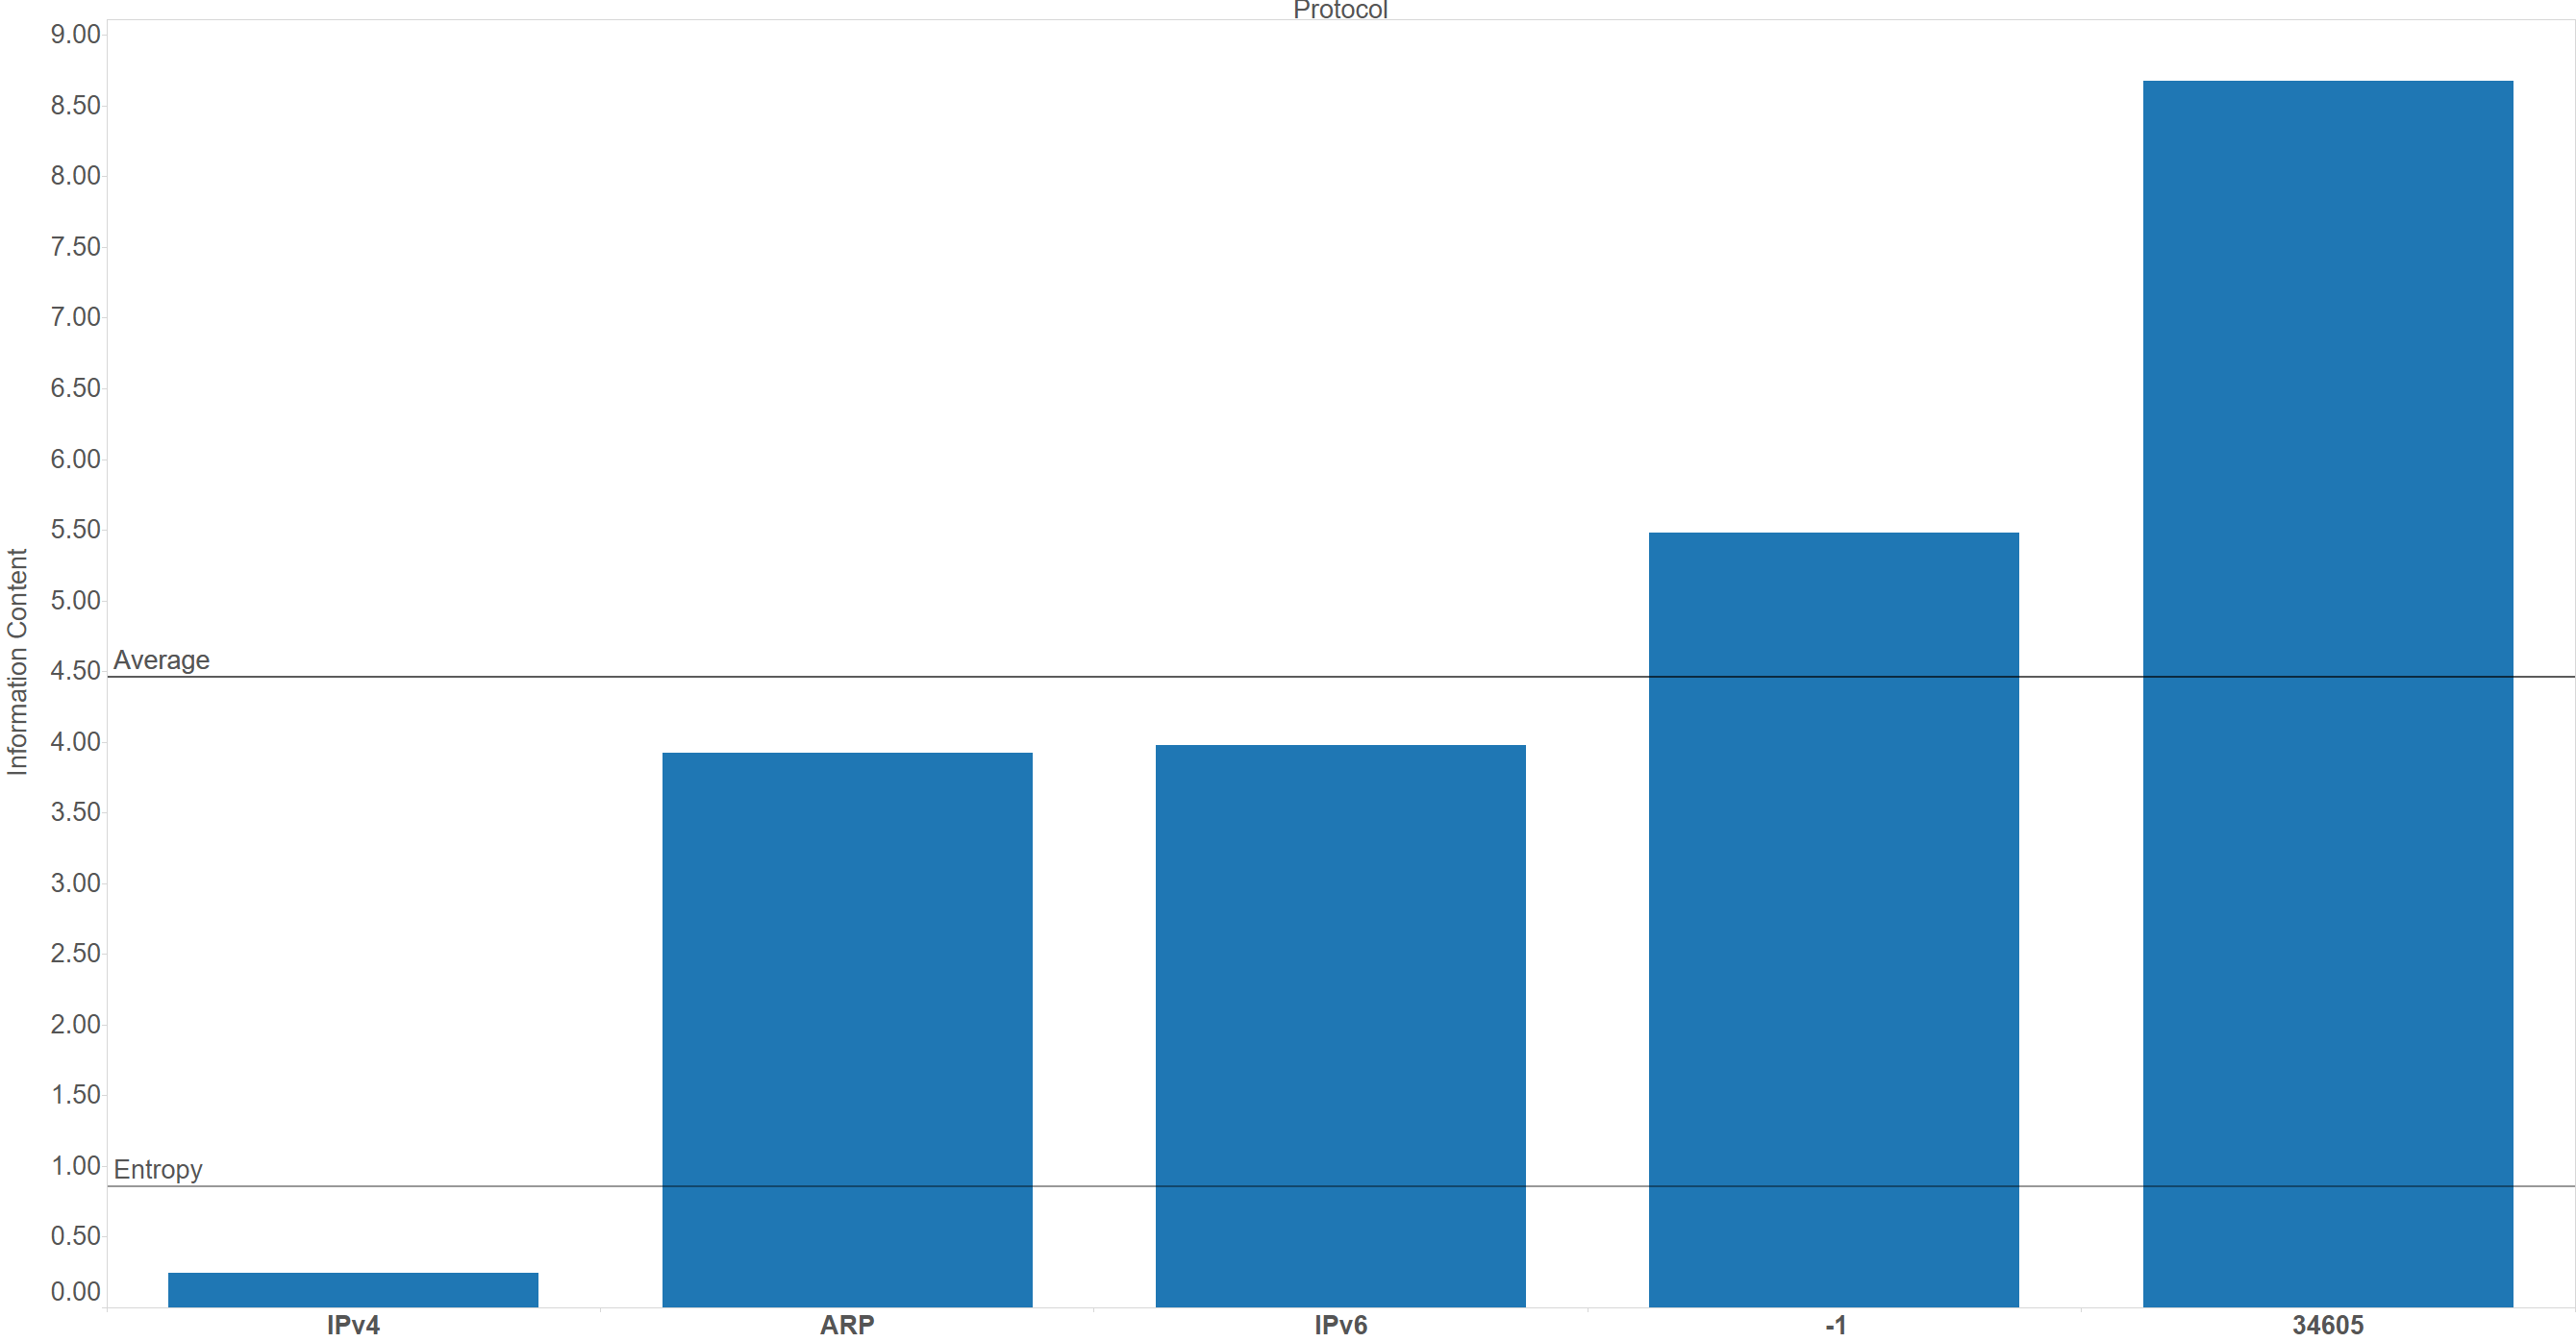

The dashboard page shown, as its layout file describes it:
{"tool":"tableau","page":{"name":"Protocol PDF Dashboard","canvas":[1000,1000],"units":"permille","ordinal":2},"visuals":[{"type":"worksheet","title":"Protocol PDF","mark":"Bar","rows":["Calculation_558446359775064070"],"cols":["protocol"],"box":[0,0,1000,1000]}]}

Visuals, with their boxes on the dashboard's canvas, which has no fixed pixel size, in thousandths of its width and height (x1, y1, x2, y2). These are canvas units, not pixel positions in the 2576x1342 screenshot, which may show the page scaled, cropped or inside an application window:
"Protocol PDF" worksheet (Bar marks): [left=0, top=0, right=1000, bottom=1000]
